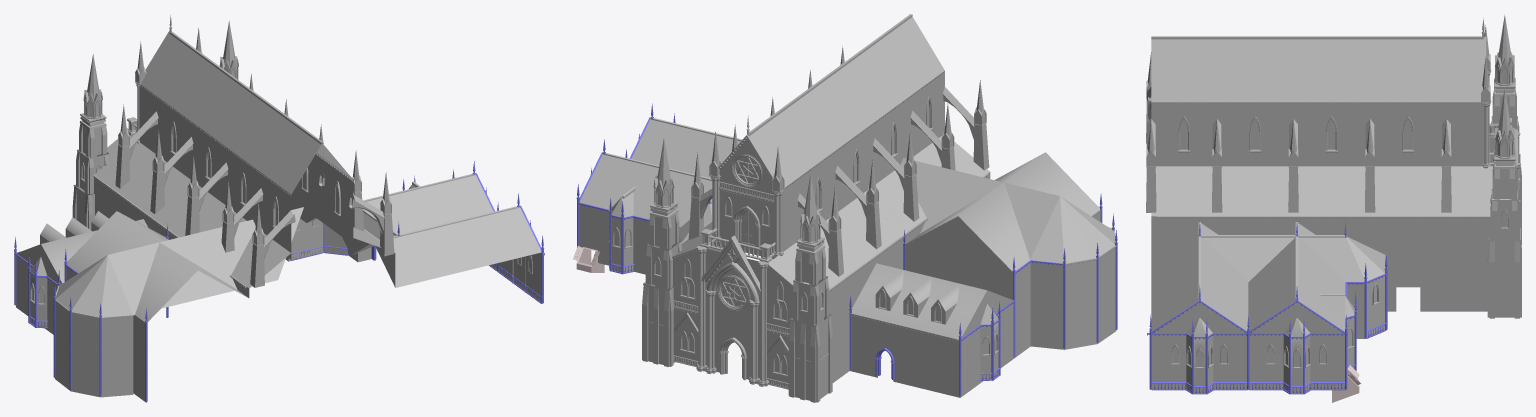
The model's file is cathedral_Ext.fbx.
3 renders of one model, left to right at view 1: azimuth 30°, elevation 25°; view 2: azimuth 150°, elevation 25°; view 3: azimuth 270°, elevation 25°, orthographic. The views are drawn at different scales.
Visible parts, largest first — view 1: polySurface113, pCylinder4, polySurface56, polySurface112, pCylinder3; view 2: polySurface113, polySurface112, pCylinder4, polySurface56, pCylinder3, polySurface111, pCube105, pCube107, pCube106; view 3: polySurface113, polySurface56, pCylinder2, pCylinder3, polySurface110, roofTop1, pCube104.
Boxes of the visible parts, bbox=[...] form: polySurface113: bbox=[72, 15, 394, 288]; pCylinder4: bbox=[55, 207, 303, 397]; polySurface56: bbox=[285, 175, 541, 303]; polySurface112: bbox=[16, 177, 249, 402]; pCylinder3: bbox=[30, 257, 47, 326]; polySurface113: bbox=[642, 14, 989, 402]; polySurface112: bbox=[813, 152, 1100, 397]; pCylinder4: bbox=[900, 158, 1116, 349]; polySurface56: bbox=[579, 119, 740, 274]; pCylinder3: bbox=[980, 304, 998, 379]; polySurface111: bbox=[611, 217, 633, 272]; pCube105: bbox=[931, 284, 959, 324]; pCube107: bbox=[875, 270, 903, 310]; pCube106: bbox=[903, 277, 931, 317]; polySurface113: bbox=[1146, 14, 1521, 318]; polySurface56: bbox=[1151, 216, 1511, 389]; pCylinder2: bbox=[1283, 318, 1310, 392]; pCylinder3: bbox=[1186, 318, 1213, 392]; polySurface110: bbox=[1321, 295, 1355, 317]; roofTop1: bbox=[1201, 235, 1344, 237]; pCube104: bbox=[1332, 369, 1359, 402].
Bounding box in the file's own units: 136 × 71.27 × 89.91.
